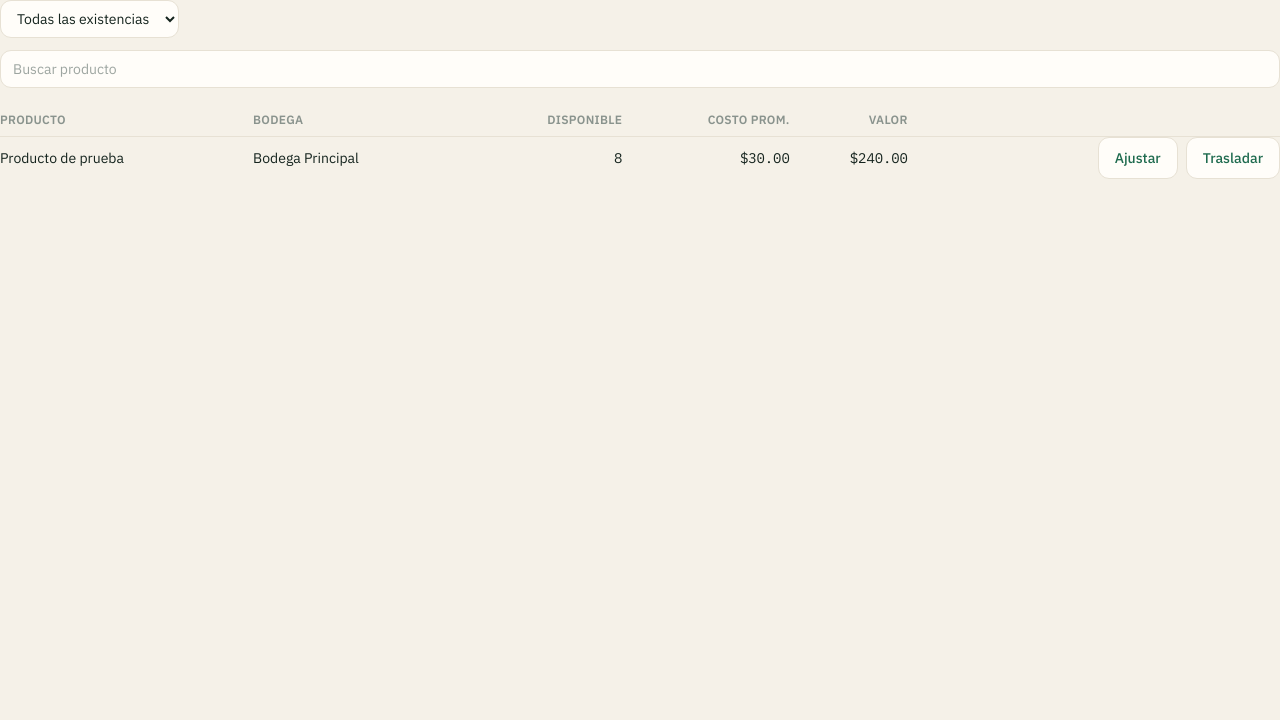
Test case: ExistenciasTab › abre el modal de ajuste
The width and height of the screenshot is (1280, 720).
Check: the text "Producto de prueba" is shown, box [0,136,253,179]
Click the button "Ajustar": (1138, 158) [1098,137,1178,179]
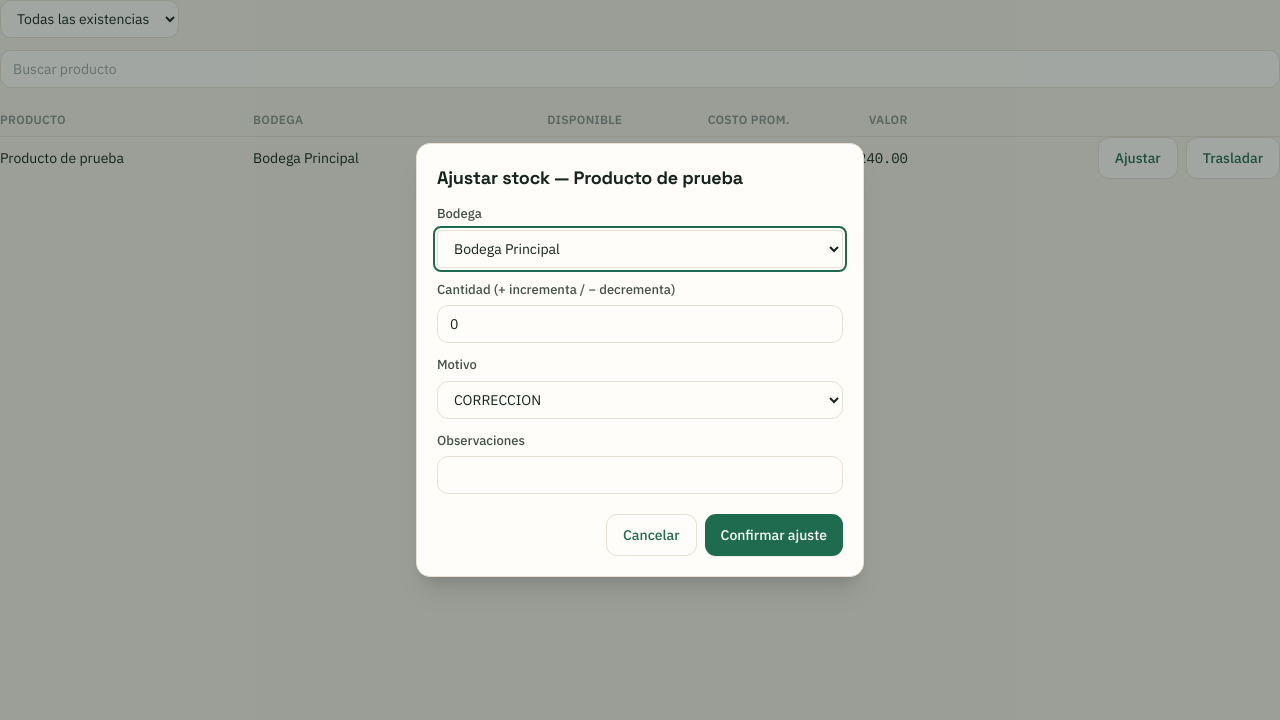
Check: the button "Confirmar ajuste" is shown, box [704,514,843,556]
